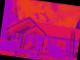Foc: (74, 6, 79, 36)
